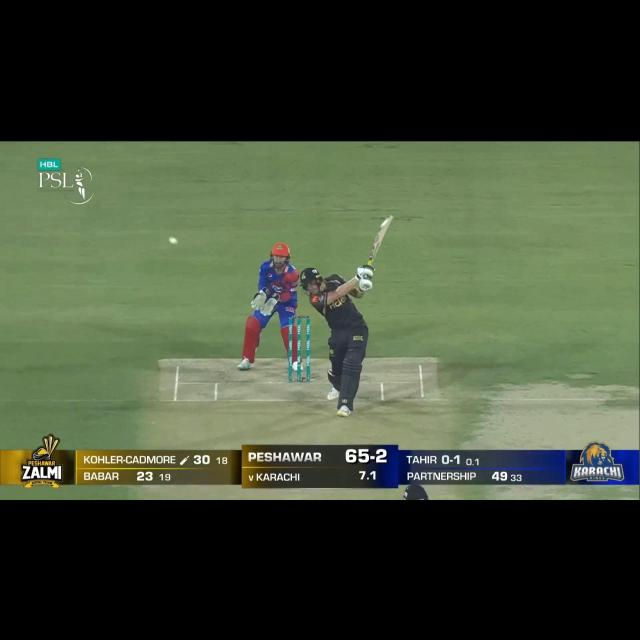bat: (367, 214, 395, 265)
toe: (382, 213, 396, 225)
